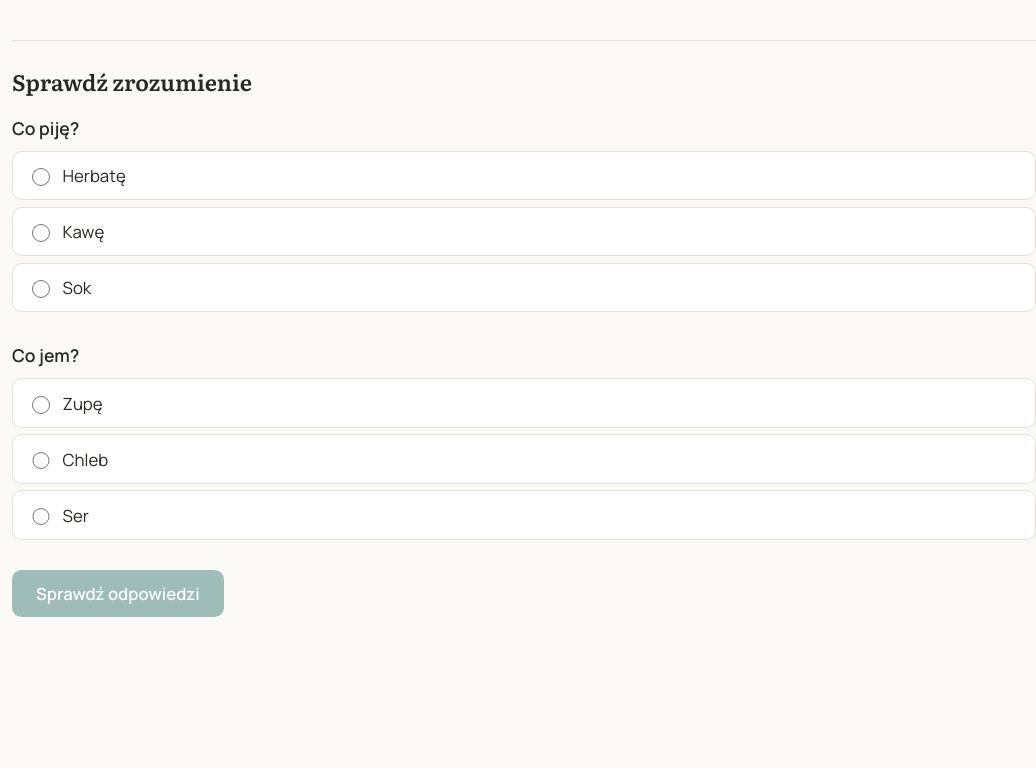
Test: Quiz › scores answers and reports the result once
The width and height of the screenshot is (1036, 768).
Click the radio button labelled "Herbatę". click: [41, 177]
box: [32,168,50,186]
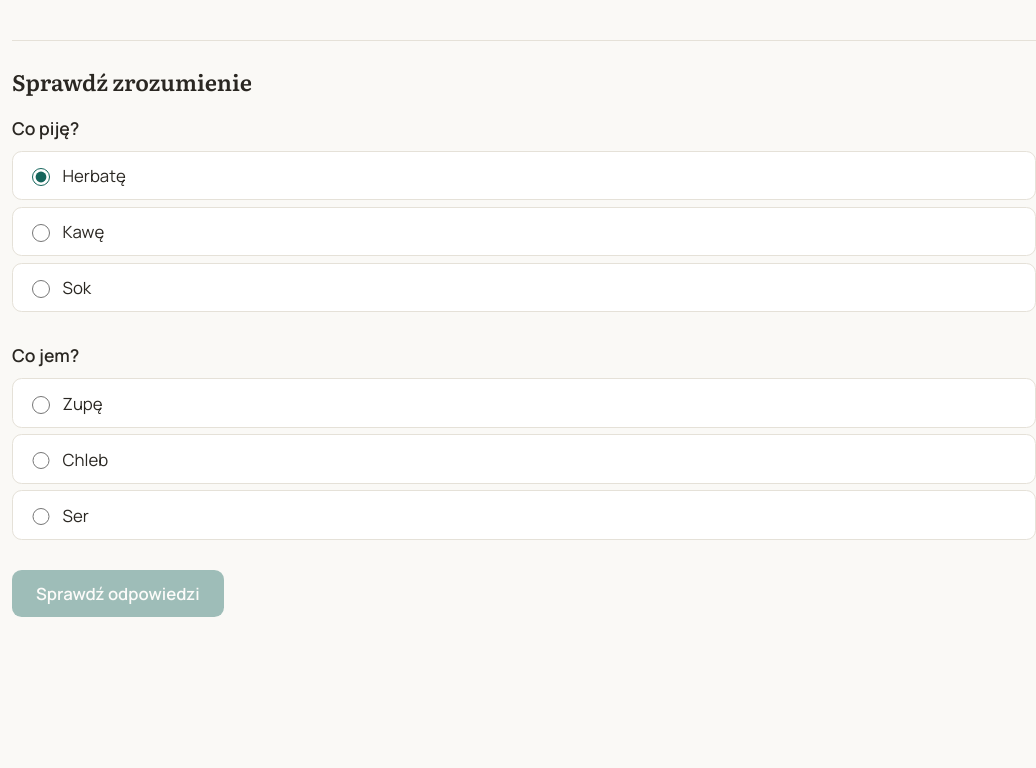
Click the radio button labelled "Ser". click: [41, 517]
box: [32,508,50,525]
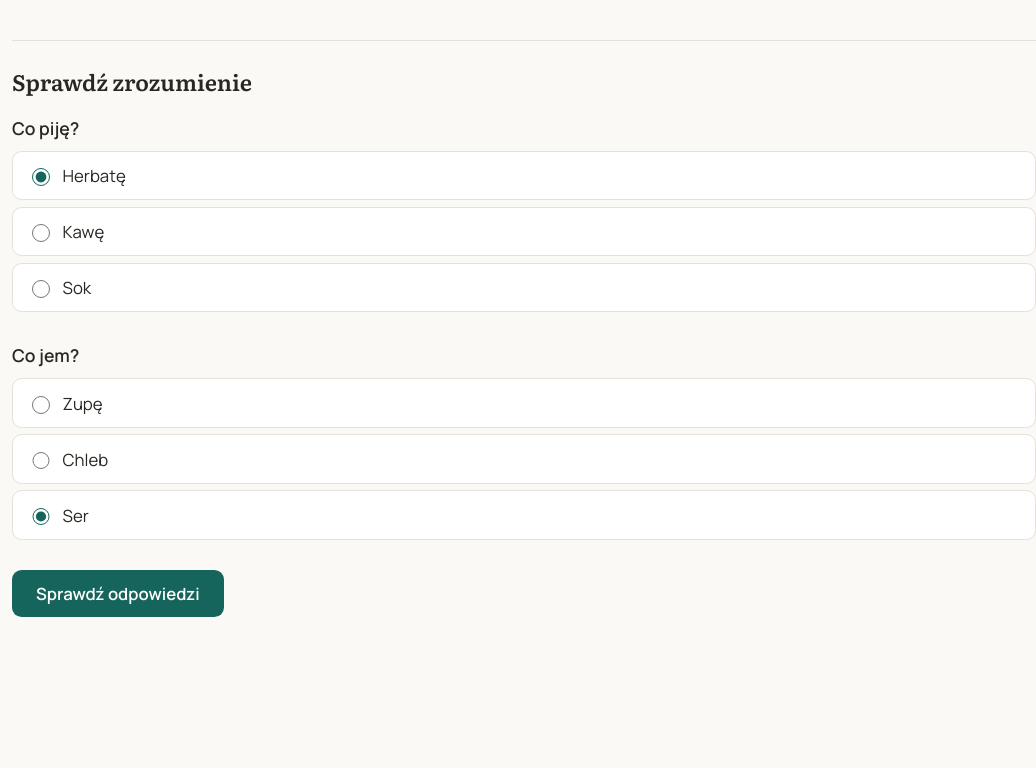
Click the button "Sprawdź odpowiedzi". click: [118, 594]
box: [12,570,224,617]
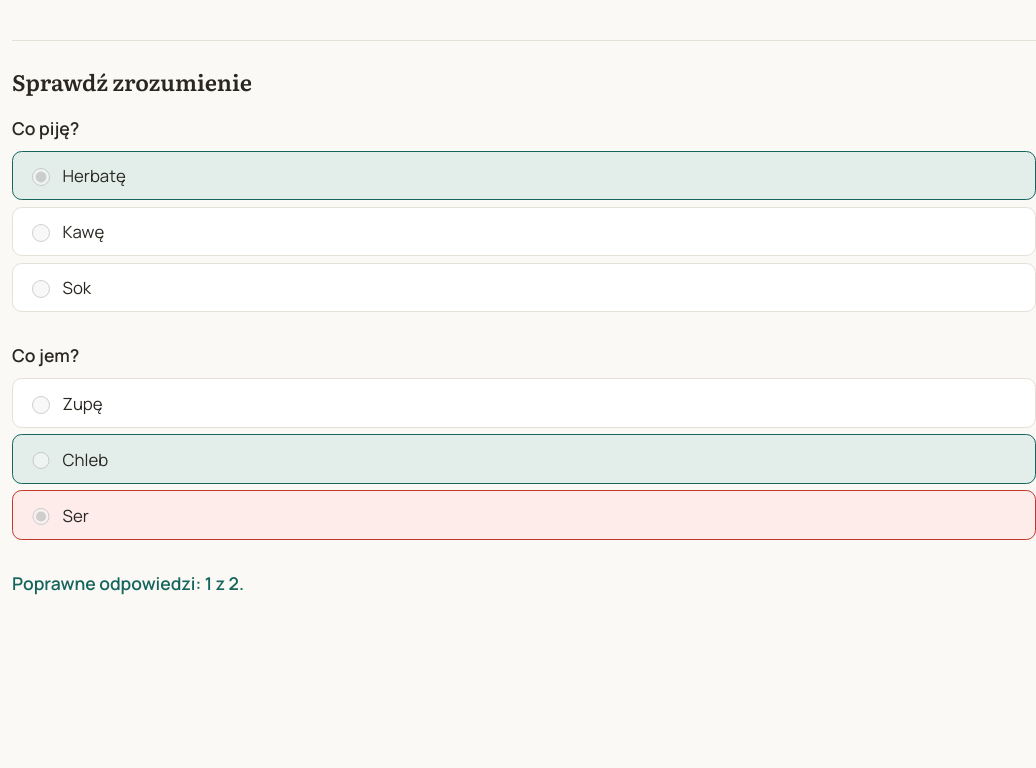
Now the text "Poprawne odpowiedzi: 1 z 2." is shown, box [12,571,244,595]
